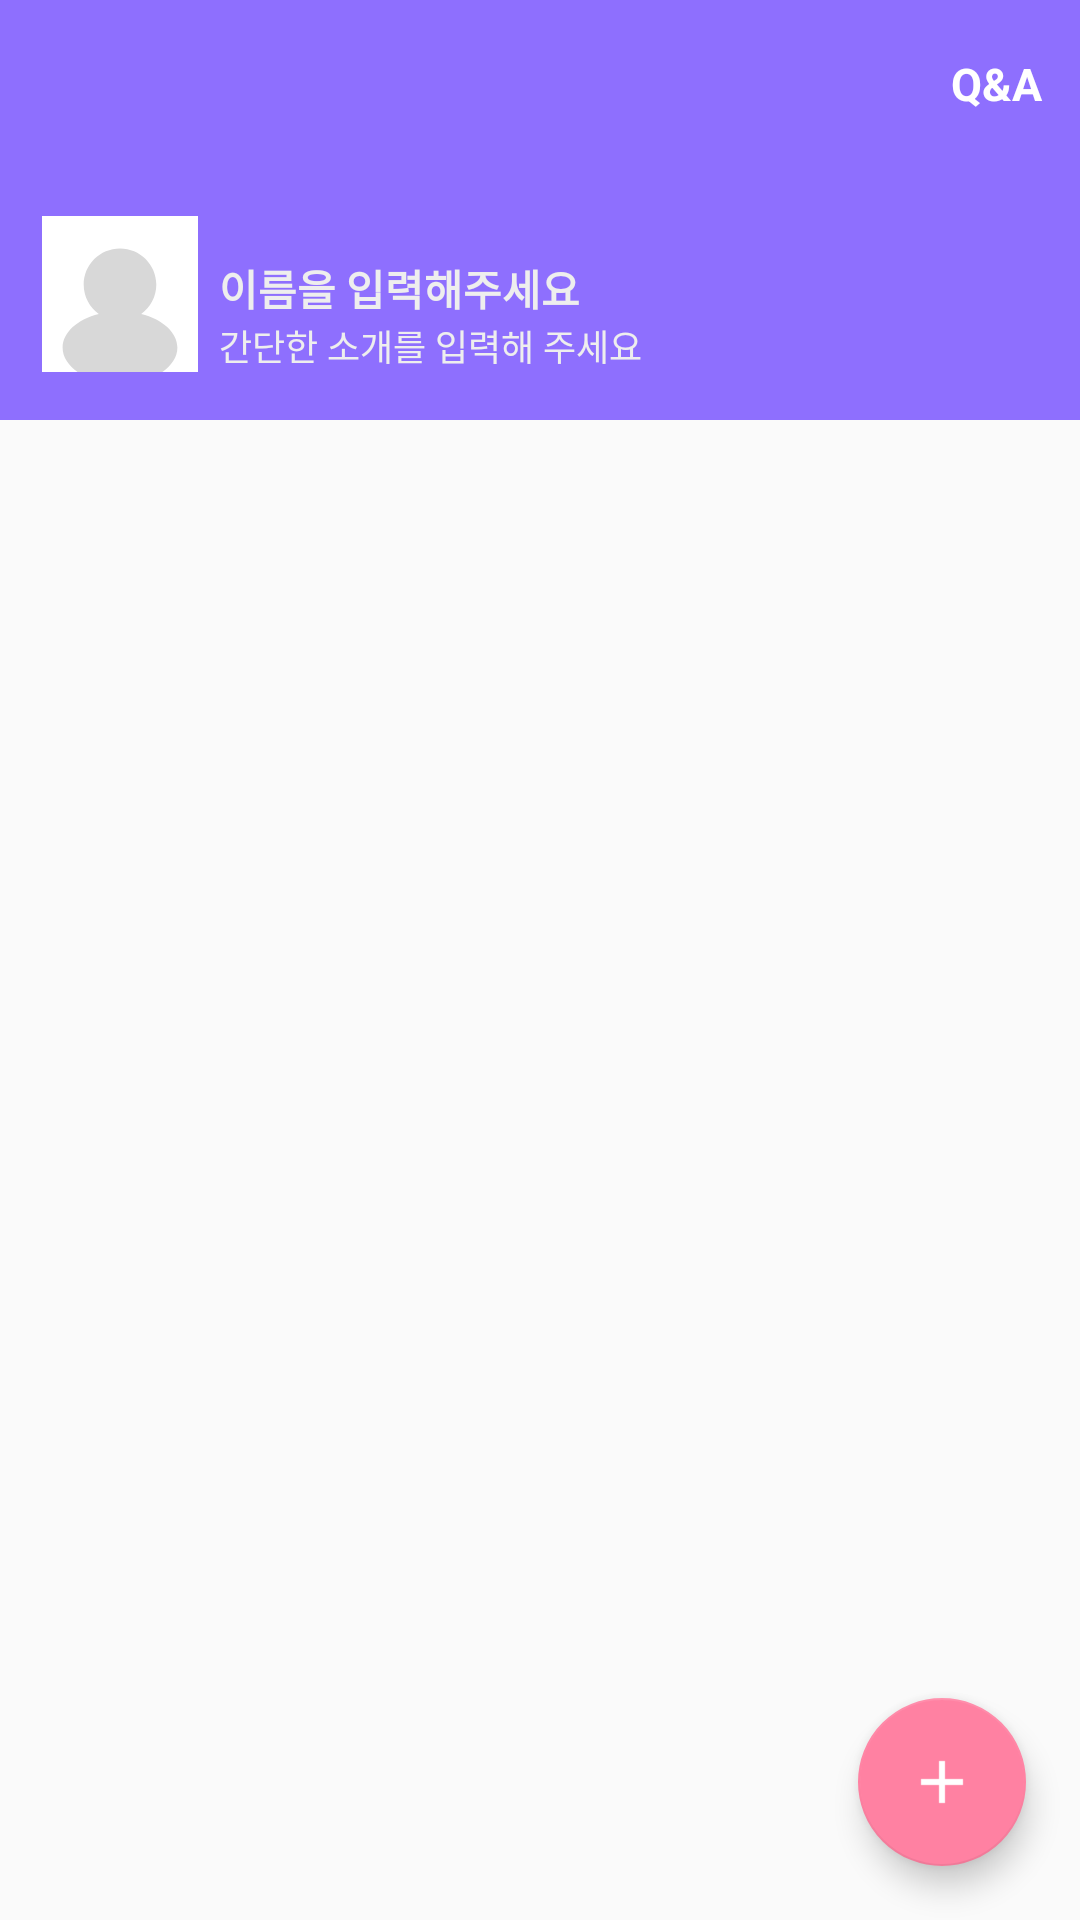

Named icons in this screenshot (1080×1920) and their bounding boxes, (x1, y1, x2, y2):
add: (858, 1698, 1026, 1866)
profile: (42, 216, 198, 372)
